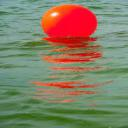red: (41, 4, 98, 39)
